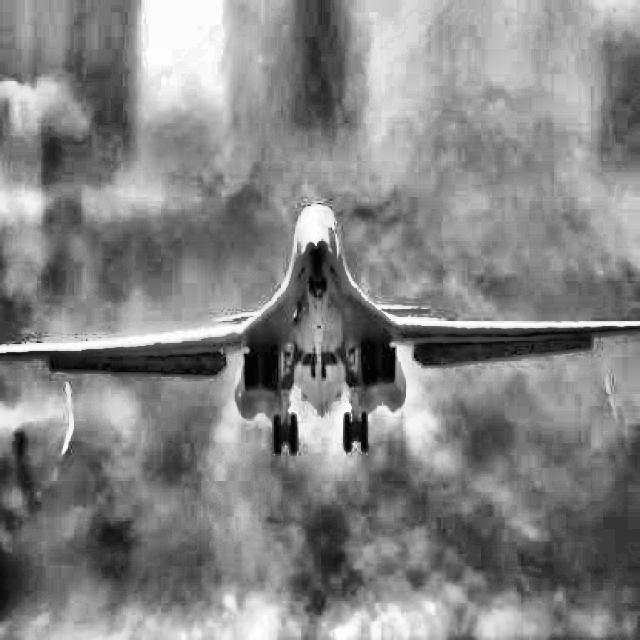B1: (0, 202, 640, 456)
